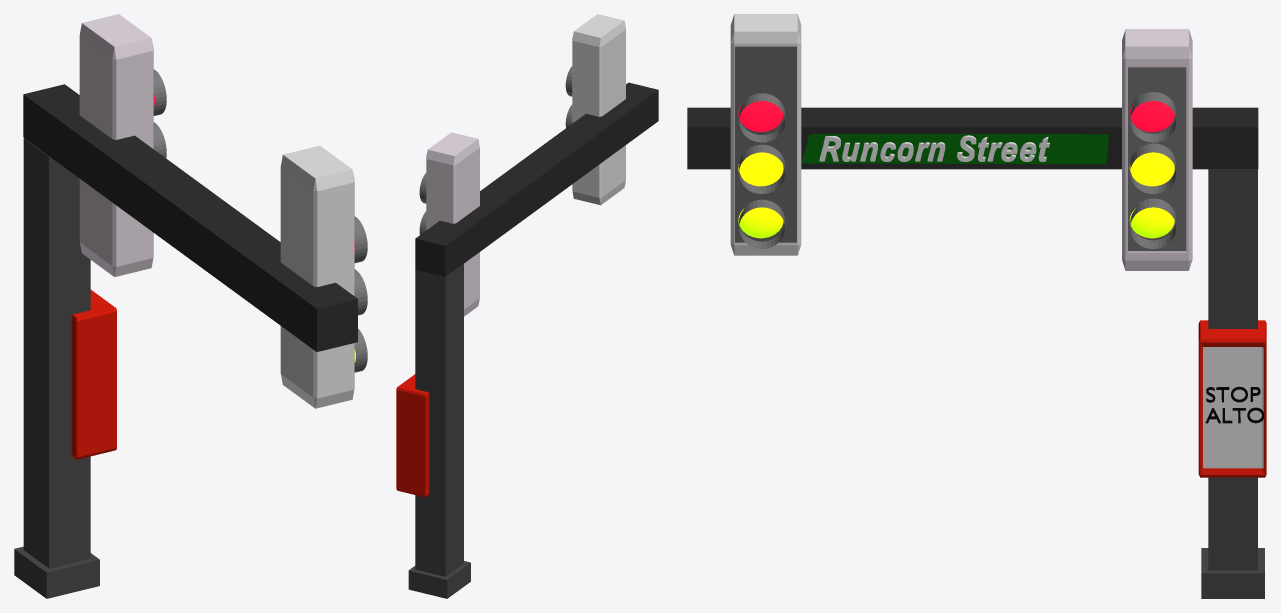
The model's file is traffic_light_3.fbx.
3 renders of one model, left to right at view 1: azimuth 30°, elevation 25°; view 2: azimuth 150°, elevation 25°; view 3: azimuth 270°, elevation 25°, orthographic. The views are drawn at different scales.
Parts seen in each view (by area): view 1: Cube, Cube.002, Cube.001, Cube.003, Cylinder, Cylinder.005; view 2: Cube, Cube.002, Cube.001, Cube.003; view 3: Cube, Cube.002, Cube.001, Cube.003, Text, Sphere.004, Sphere.001, Sphere.003, Sphere.005, Sphere, Sphere.002, Cylinder (+6 smaller).
Boxes of the visible parts, x1,y1,x2,y2 form: Cube: (14,84,357,598); Cube.002: (280,145,354,408); Cube.001: (79,14,153,276); Cube.003: (71,290,116,459); Cylinder: (153,69,166,115); Cylinder.005: (354,216,367,262); Cube: (408,82,658,598); Cube.002: (572,14,625,205); Cube.001: (426,132,479,316); Cube.003: (396,374,429,497); Cube: (687,107,1264,598); Cube.002: (730,14,801,255); Cube.001: (1122,29,1192,270); Cube.003: (1198,320,1266,477); Text: (819,135,1049,161); Sphere.004: (738,152,783,186); Sphere.001: (1129,152,1174,186); Sphere.003: (738,207,783,238); Sphere.005: (738,101,783,131); Sphere: (1129,101,1174,131); Sphere.002: (1129,207,1174,238); Cylinder: (1130,92,1176,142).
Bounding box in the file's own units: 406 × 2730 × 2500.
